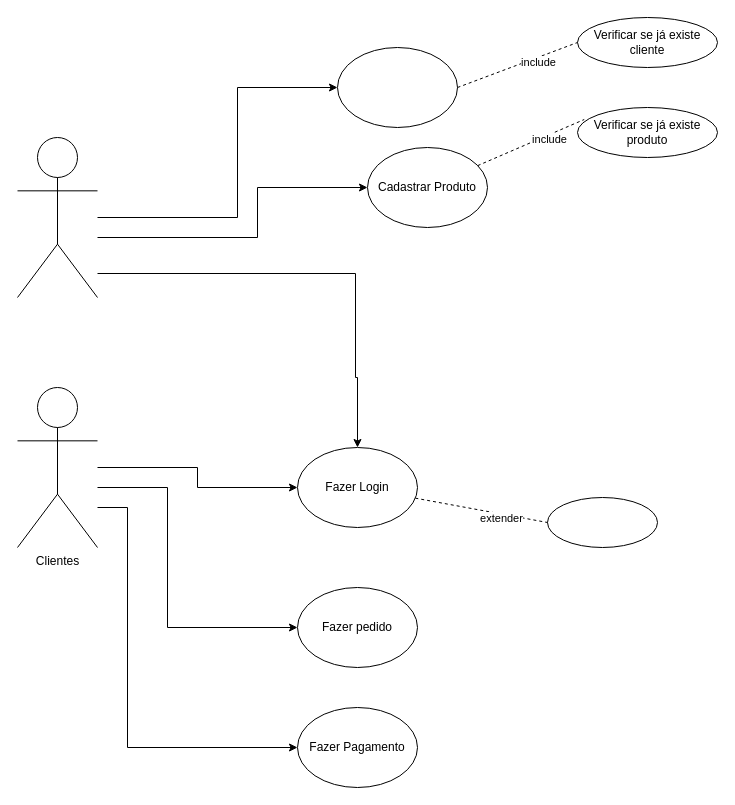
Some shapes in this 735 by 805 pixel diagram are drawn without their labels. The centre of each missing label's shape, as x and y in pixels:
"ADM" goes at pixel 57 217.
"Alterar senha" goes at pixel 602 522.
"Manter Cliente" goes at pixel 397 87.
